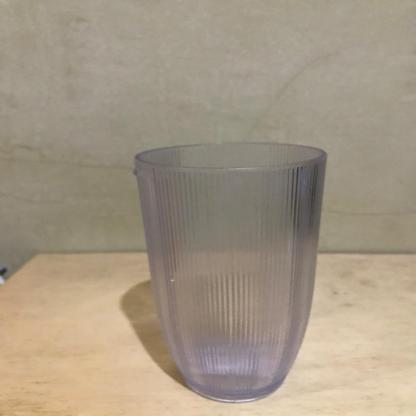glass: (129, 146, 351, 403)
